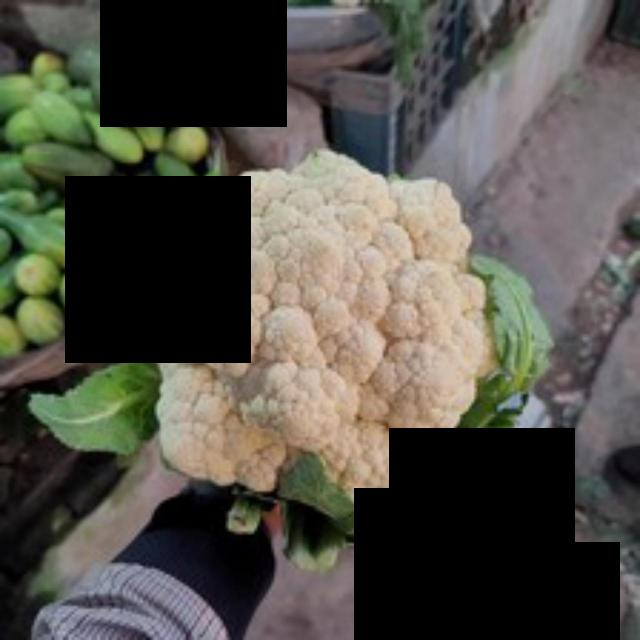cauliflower: (121, 140, 526, 532)
